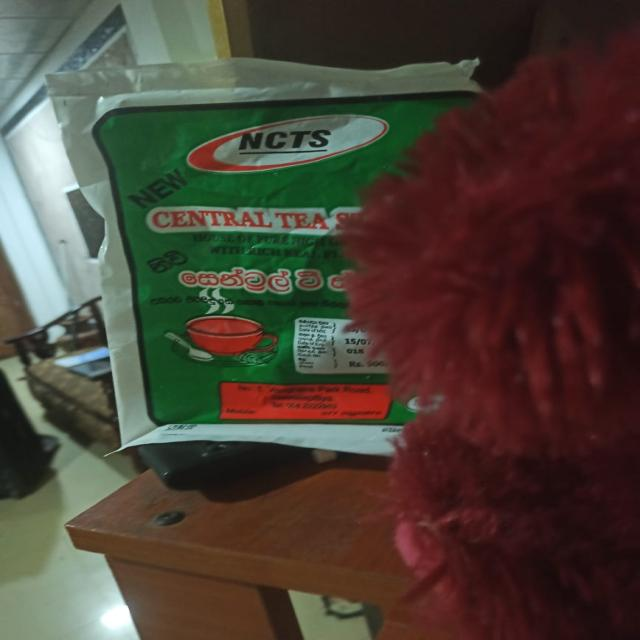Central Tea: (100, 78, 542, 466)
